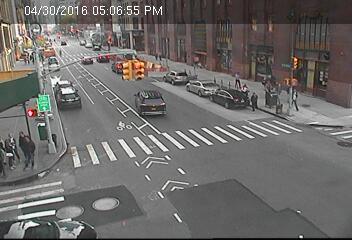neg: (104, 108, 123, 134), (255, 198, 273, 222), (179, 173, 195, 194), (4, 90, 19, 111), (180, 22, 195, 42), (124, 190, 139, 209), (327, 104, 342, 123), (287, 55, 301, 74), (207, 125, 221, 144), (62, 208, 76, 227), (25, 12, 39, 30), (147, 94, 160, 112), (135, 148, 147, 164), (72, 70, 84, 86), (182, 88, 194, 104), (225, 28, 237, 44), (74, 158, 86, 173), (243, 144, 254, 159), (29, 71, 40, 85), (129, 70, 139, 83), (322, 66, 331, 79), (64, 100, 73, 112), (283, 147, 291, 159), (72, 21, 80, 32), (86, 40, 93, 49), (109, 21, 115, 29)
pos: (16, 134, 39, 165), (13, 129, 33, 156), (285, 88, 303, 112), (2, 131, 20, 155), (230, 71, 245, 91), (247, 91, 260, 110), (240, 83, 249, 95), (21, 54, 28, 63), (56, 48, 63, 57), (157, 52, 163, 61), (153, 52, 159, 60), (26, 57, 31, 64)
